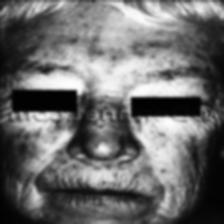Non-Cancerous Skin Condition: (9, 126, 196, 190), (24, 24, 186, 82)
